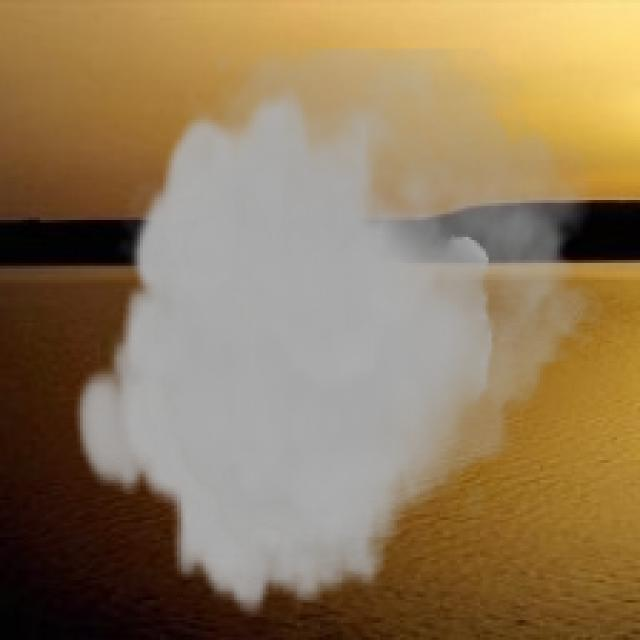smoke: (71, 49, 608, 617)
